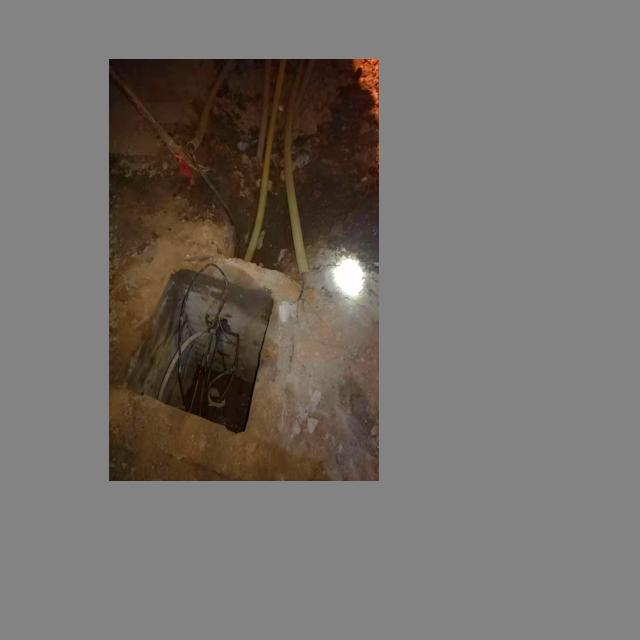lose: (122, 248, 290, 439)
